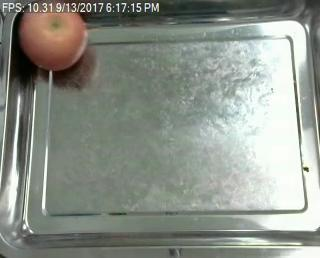apple: (18, 12, 89, 72)
